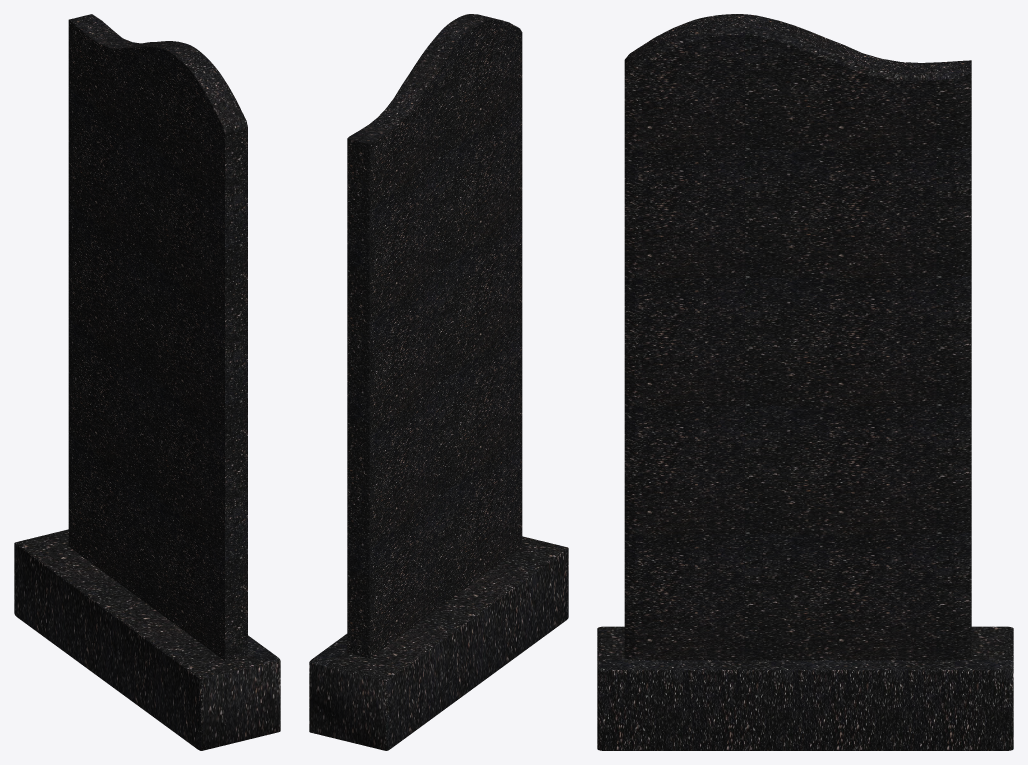
Rendered from Волна [granite_1_standard] (100).glb.
3 views of the same model, side by side, from view 1: azimuth 30°, elevation 25°; view 2: azimuth 150°, elevation 25°; view 3: azimuth 270°, elevation 25° (orthographic). The views are drawn at different scales.
Visible parts, largest first — view 1: Куб.113, Куб.006; view 2: Куб.113, Куб.006; view 3: Куб.113, Куб.006.
Part boxes in pixels (x1,y1,x2,y2): Куб.113: [68, 14, 247, 660]; Куб.006: [14, 529, 280, 750]; Куб.113: [347, 14, 522, 658]; Куб.006: [309, 536, 568, 750]; Куб.113: [624, 14, 971, 660]; Куб.006: [597, 626, 1013, 750].
Size of the model in its own units: 0.15 by 1.13 by 0.6.
2 materials, 2 textured.
